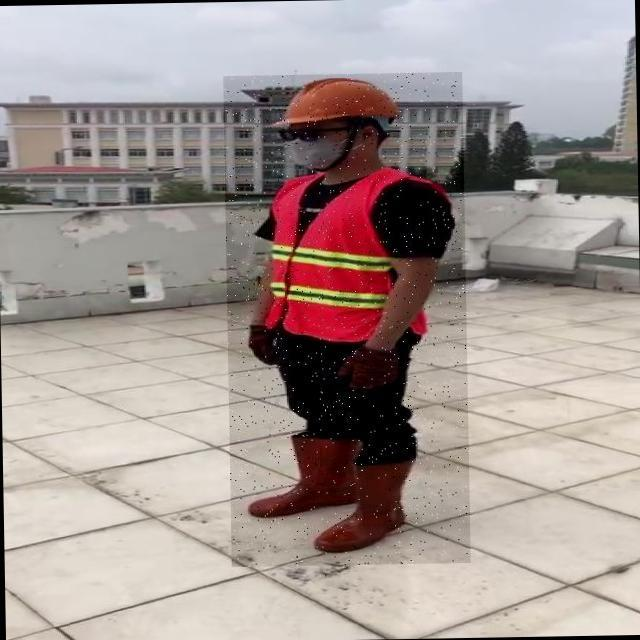Helmet: (272, 75, 407, 127)
Human: (223, 72, 472, 567)
Safety Boot: (249, 434, 364, 517), (315, 462, 419, 552)
Safety Vest: (270, 169, 431, 341)
